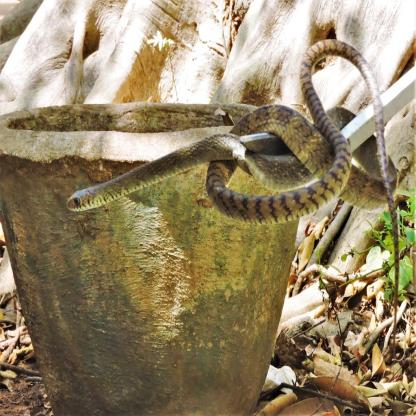Snake: (65, 134, 314, 232)
